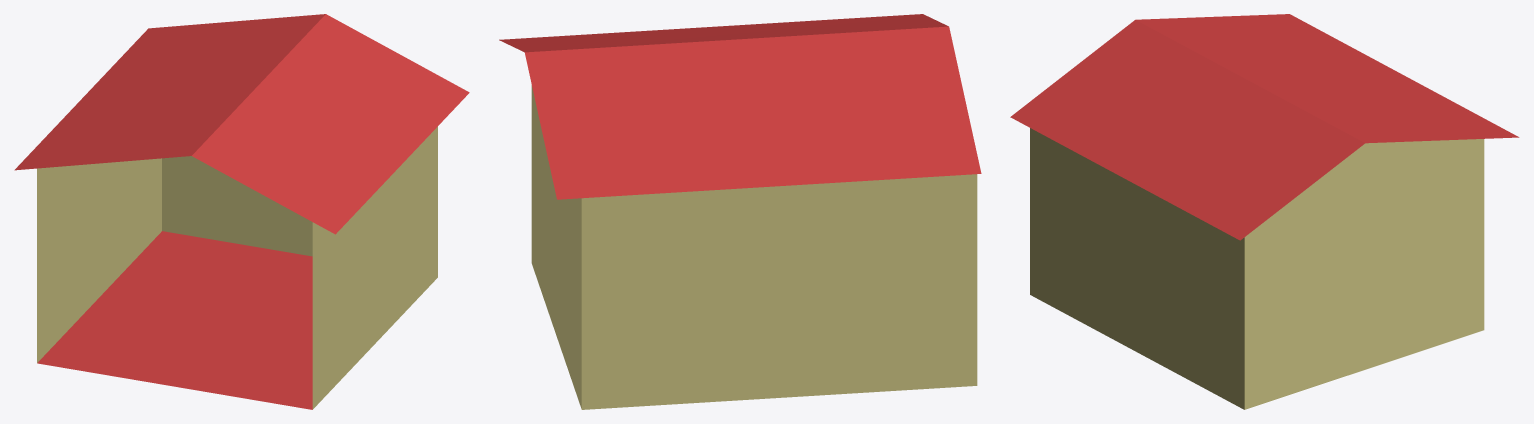
3 views of the same model, side by side, from view 1: azimuth 30°, elevation 25°; view 2: azimuth 150°, elevation 25°; view 3: azimuth 270°, elevation 25° (orthographic). The views are drawn at different scales.
Size of the model in its own units: 10.13 by 10.07 by 5.24.
